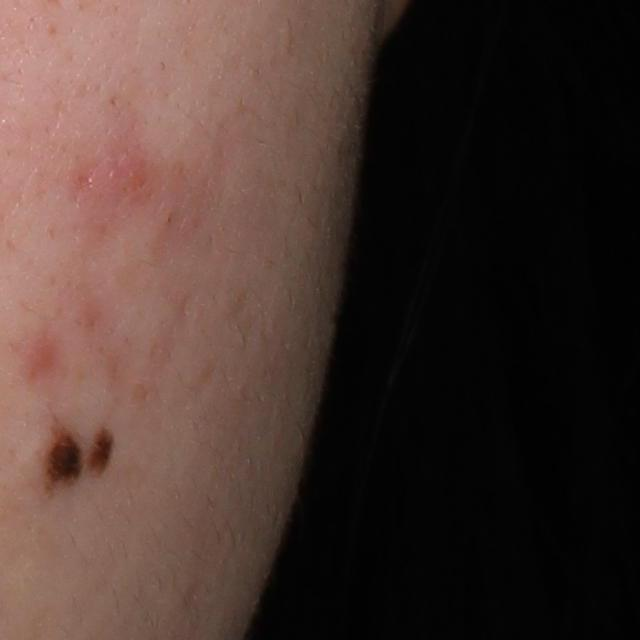nevus: (42, 414, 86, 501), (83, 422, 115, 481)
